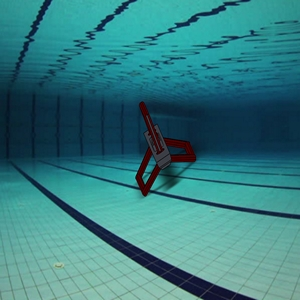submarine: (112, 91, 202, 216)
